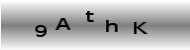9: (33, 24, 47, 37)
A: (54, 17, 72, 31)
K: (133, 20, 149, 34)
h: (104, 20, 119, 33)
t: (83, 10, 95, 23)
